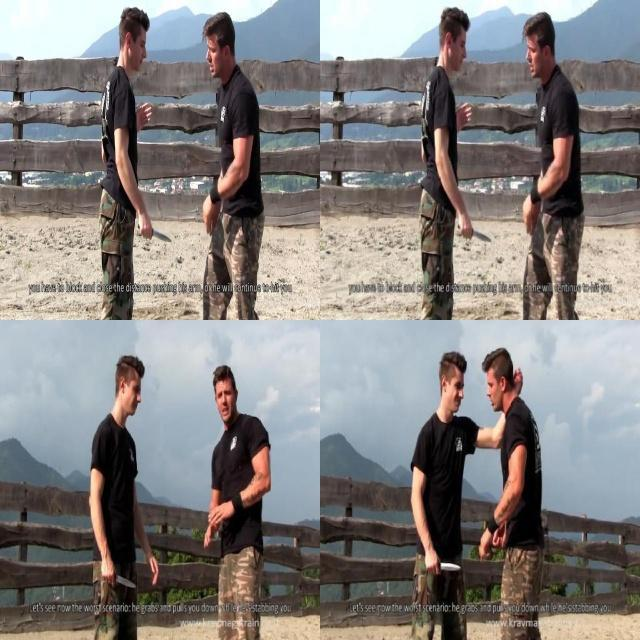-: (99, 563, 138, 593), (456, 216, 496, 245), (136, 216, 175, 245), (422, 555, 462, 574)
